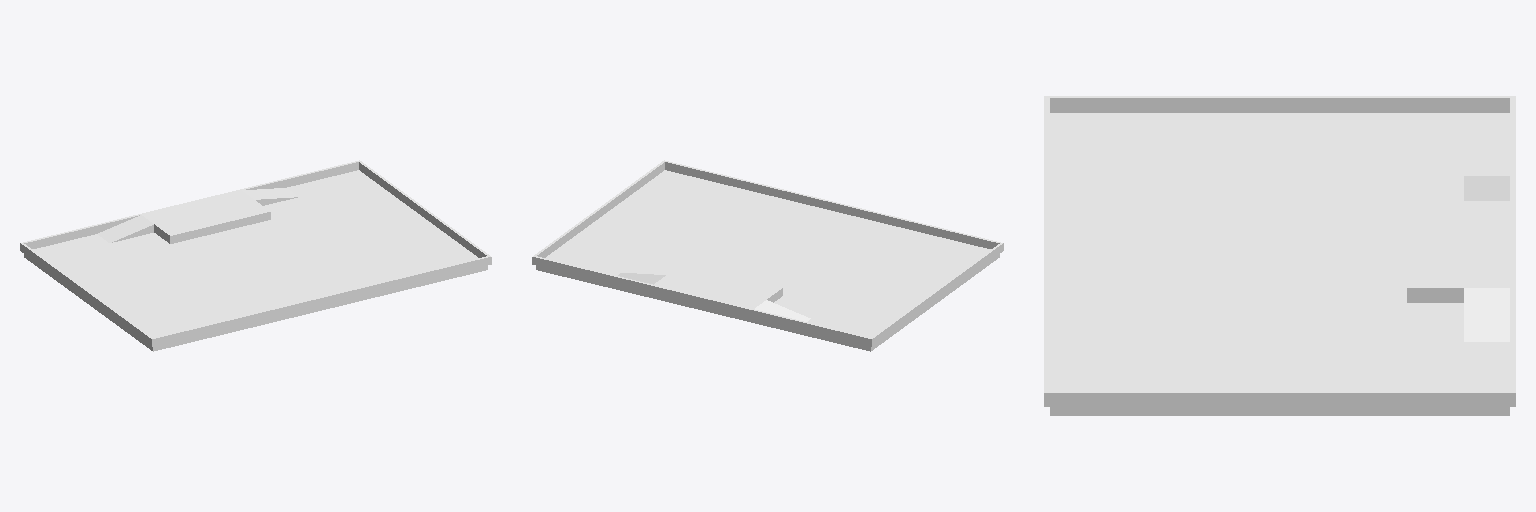
The robot description file, URDF, robot "obj_model":
<?xml version="1.0" ?>
<robot name="obj_model">

  <!-- Link that contains the object -->
  <link name="rendered_table">
    <!-- Visual Shape: 3D mesh from the .obj file -->
    <visual>
      <geometry>
        <mesh filename="table.obj"/>  <!-- Path to the .obj file -->
      </geometry>
      <material name="default_material">
        <color rgba="1 1 1 1"/>  <!-- You can set the default color if no texture is available -->
      </material>
    </visual>
    
    <!-- Inertial properties: Mass and Inertia -->
    <inertial>
      <mass value="1.0"/>  <!-- You can adjust the mass as per your object -->
      <inertia ixx="0.1" ixy="0" ixz="0" iyy="0.1" iyz="0" izz="0.1"/> <!-- Adjust inertia -->
    </inertial>
  </link>
  
  <link name="table_base">
    <collision>
      <geometry>
        <box size="3.0 2.0 0.05"/>
      </geometry>
    </collision>
	<visual>
	  <geometry>
        <box size="0 0 0"/>
      </geometry>
	</visual>
  </link>
  
  <link name="border_front">
    <collision>
      <geometry>
        <box size="3.0 0.022 0.07"/>
      </geometry>
    </collision>
	<visual>
	  <geometry>
        <box size="0 0 0"/>
      </geometry>
	</visual>
  </link>
  
  <link name="border_back">
    <collision>
      <geometry>
        <box size="3.0 0.022 0.07"/>
      </geometry>
    </collision>
	<visual>
	  <geometry>
        <box size="0 0 0"/>
      </geometry>
	</visual>
  </link>
  
  <link name="border_left">
    <collision>
      <geometry>
        <box size="0.022 2.0 0.07"/>
      </geometry>
    </collision>
	<visual>
	  <geometry>
        <box size="0 0 0"/>
      </geometry>
	</visual>
  </link>
  
  <link name="border_right">
    <collision>
      <geometry>
        <box size="0.022 2.0 0.07"/>
      </geometry>
    </collision>
	<visual>
	  <geometry>
        <box size="0 0 0"/>
      </geometry>
	</visual>
  </link>
  
  <link name="scene">
    <collision>
      <geometry>
        <box size="0.9 0.45 0.07"/>
      </geometry>
    </collision>
	<visual>
	  <geometry>
        <box size="0 0 0"/>
      </geometry>
	</visual>
  </link>
  
    <link name="ramps">
    <collision>
      <geometry>
		<mesh filename="rampes.obj"/>
      </geometry>
    </collision>
	<visual>
	  <geometry>
        <box size="0 0 0"/>
      </geometry>
	</visual>
  </link>
  
  <!-- Fixer les bordures à la table -->
  <joint name="rendered_to_base" type="fixed">
    <parent link="table_base"/>
    <child link="rendered_table"/>
    <origin rpy="1.5708 0 0" xyz="0 0 0"/> <!-- 1.5708 radians = 90° -->
  </joint>
  
  <joint name="base_to_border_front" type="fixed">
    <parent link="table_base"/>
    <child link="border_front"/>
    <origin rpy="0 0 0" xyz="0 1.011 0.06"/>
  </joint>

  <joint name="base_to_border_back" type="fixed">
    <parent link="table_base"/>
    <child link="border_back"/>
    <origin rpy="0 0 0" xyz="0 -1.011 0.06"/>
  </joint>

  <joint name="base_to_border_left" type="fixed">
    <parent link="table_base"/>
    <child link="border_left"/>
    <origin rpy="0 0 0" xyz="-1.511 0 0.06"/>
  </joint>

  <joint name="base_to_border_right" type="fixed">
    <parent link="table_base"/>
    <child link="border_right"/>
    <origin rpy="0 0 0" xyz="1.511 0 0.06"/>
  </joint>
  
  <joint name="base_to_scene" type="fixed">
    <parent link="table_base"/>
    <child link="scene"/>
    <origin rpy="0 0 0" xyz="0 0.78 0.06"/>
  </joint>
  
  <joint name="base_to_ramps" type="fixed">
    <parent link="table_base"/>
    <child link="ramps"/>
    <origin rpy="1.5708 0 0" xyz="0 0 0"/>
  </joint>

</robot>

--- Render facts (derived) ---
3 views of the same robot in one strip: view 1: azimuth 30°, elevation 25°; view 2: azimuth 150°, elevation 25°; view 3: azimuth 270°, elevation 25° (orthographic).
Robot: obj_model — 8 links, 7 joints (7 fixed); root link table_base; default pose: every joint at zero.
Links seen in each view (by area): view 1: rendered_table; view 2: rendered_table; view 3: rendered_table.
Boxes of the visible links, x1,y1,x2,y2 form: rendered_table: (20,160,491,351); rendered_table: (532,160,1003,351); rendered_table: (1044,96,1515,415).
Size in the robot's own frame: 3.04 by 2.04 by 0.12 metres.
1 mesh visuals loaded from 1 distinct referenced files (1 OBJ).